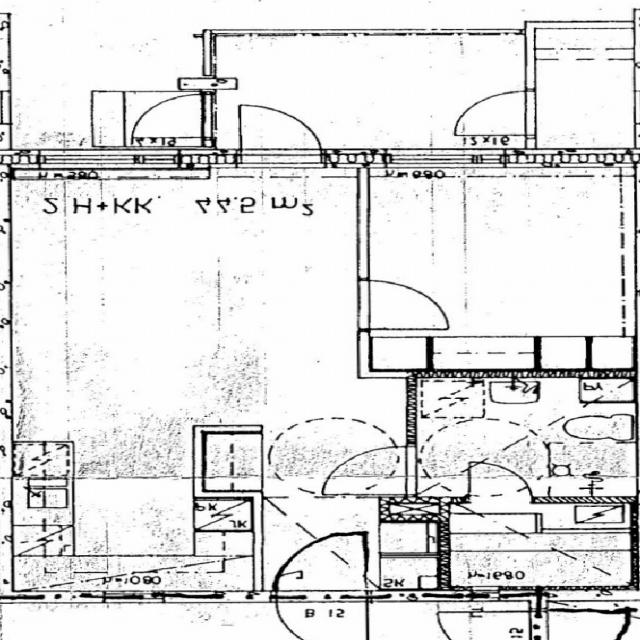door: (277, 536, 367, 603), (241, 98, 324, 166), (277, 590, 367, 640), (329, 446, 417, 493), (360, 281, 448, 328), (455, 91, 536, 134), (133, 94, 211, 137), (470, 459, 533, 503)
